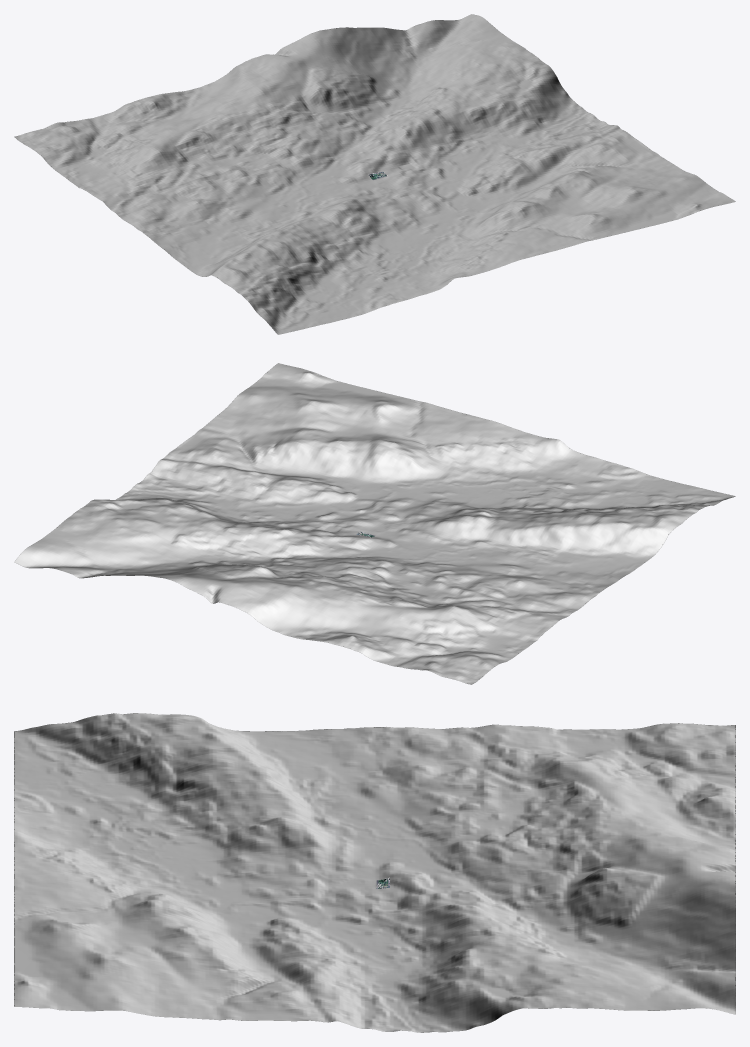
Rendered from fairfield-site.glb.
3 views of the same model, one above another, from view 1: azimuth 30°, elevation 25°; view 2: azimuth 150°, elevation 25°; view 3: azimuth 270°, elevation 25° (orthographic). The views are drawn at different scales.
Parts seen in each view (by area): view 1: terrain-macro-10m; view 2: terrain-macro-10m; view 3: terrain-macro-10m.
Boxes of the visible parts, <box> form: terrain-macro-10m: <box>14,14,735,334</box>; terrain-macro-10m: <box>14,363,735,684</box>; terrain-macro-10m: <box>14,713,735,1032</box>.
Bounding box in the file's own units: 5990 × 461 × 5990.
15 materials, 2 textured.
